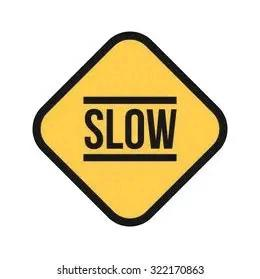Slow: (41, 40, 218, 217)
